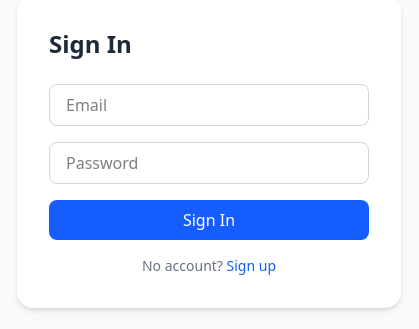
Test: AuthForm › switches back to sign in from sign up
Click the button "Sign up" at (251, 266), box [227,256,276,276]
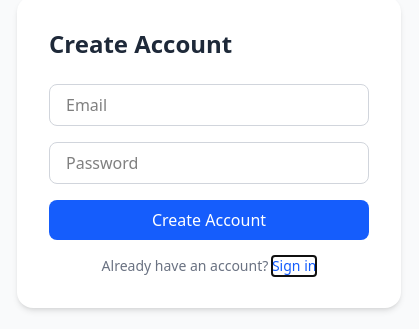
Click the button "Sign in" at (294, 266), box [272,256,316,276]
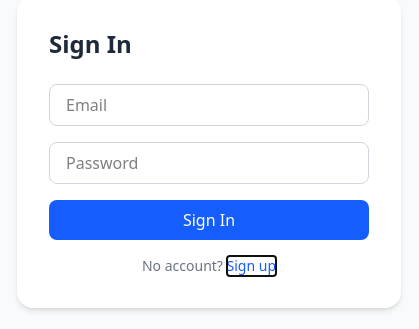
Expected: the heading "Sign In" is shown, [49,27,132,60]
